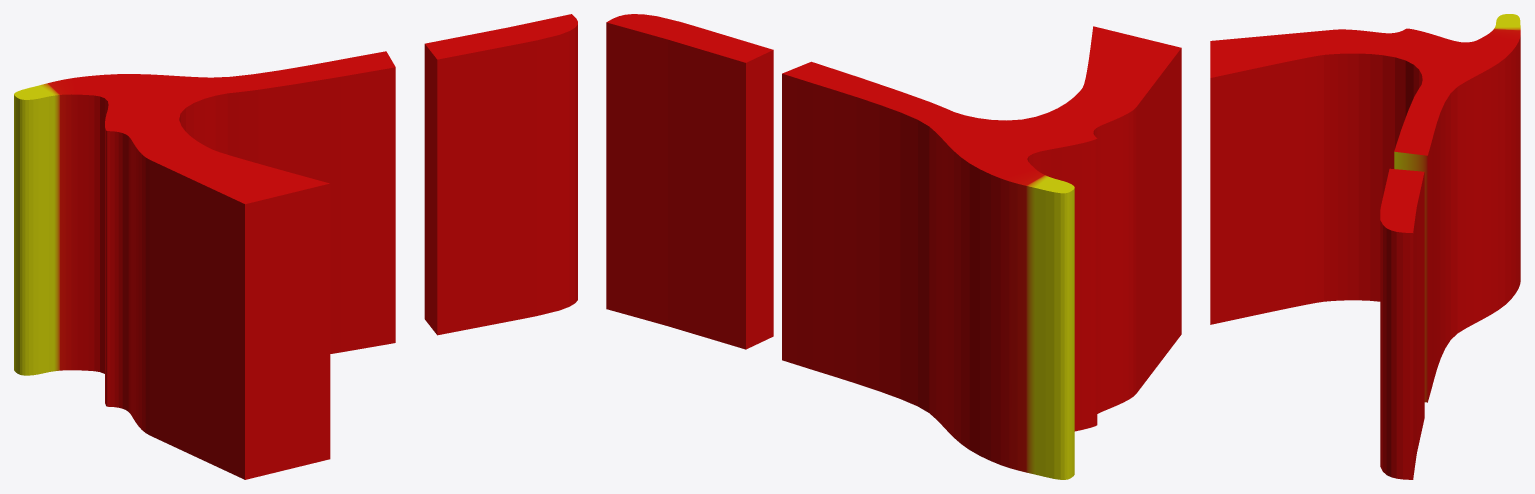
File: COL_Waterplane.FBX
3 renders of one model, left to right at view 1: azimuth 30°, elevation 25°; view 2: azimuth 150°, elevation 25°; view 3: azimuth 270°, elevation 25°, orthographic. The views are drawn at different scales.
Parts seen in each view (by area): view 1: COL_WaterPlane; view 2: COL_WaterPlane; view 3: COL_WaterPlane.
Part boxes in pixels (<box>): COL_WaterPlane: <box>14,14,577,479</box>; COL_WaterPlane: <box>606,14,1181,479</box>; COL_WaterPlane: <box>1210,14,1520,479</box>.
Size of the model in its own units: 6709 by 3523 by 4016.
